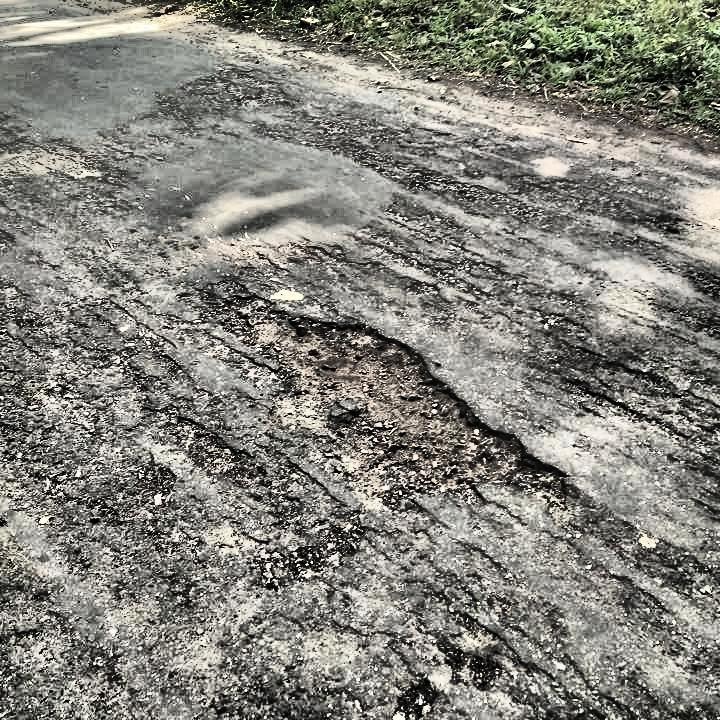pothole: (212, 290, 576, 522), (167, 60, 274, 114)
